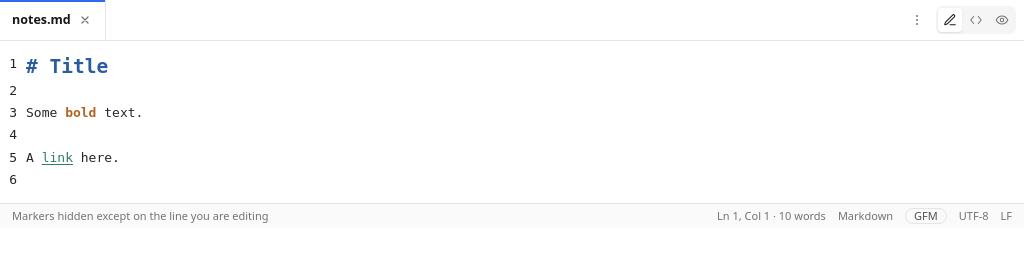
Scenario: Source mode, rendered › shows every character, on every line
The image size is (1024, 273).
Expected: the text box with class "cm-live-link" is shown, top-left (42, 150), bottom-right (73, 165)
Click the button named "Source".
click(976, 20)  # box top-left (964, 8), bottom-right (988, 32)
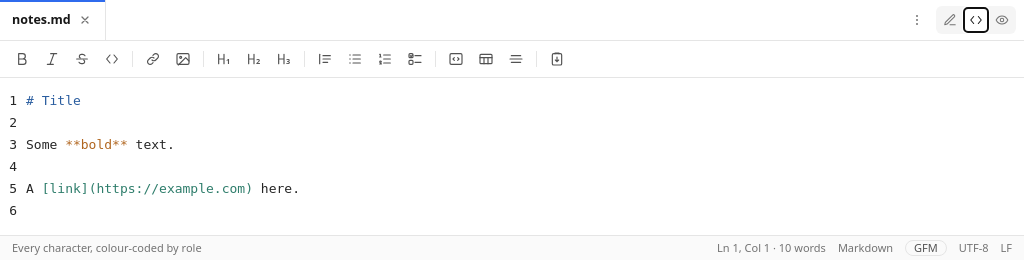
Now the field with class "cm-content" shows "# Title", box top-left (26, 93), bottom-right (300, 196)
Now the field with class "cm-content" shows "**bold**", box top-left (26, 93), bottom-right (300, 196)
Now the field with class "cm-content" shows "(https://example.com)", box top-left (26, 93), bottom-right (300, 196)
